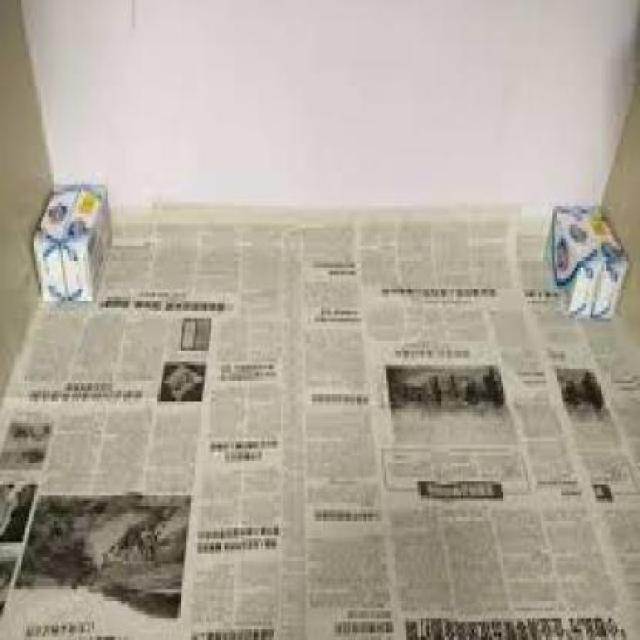PAPER: (0, 206, 638, 637), (285, 209, 638, 637), (0, 213, 298, 636)
